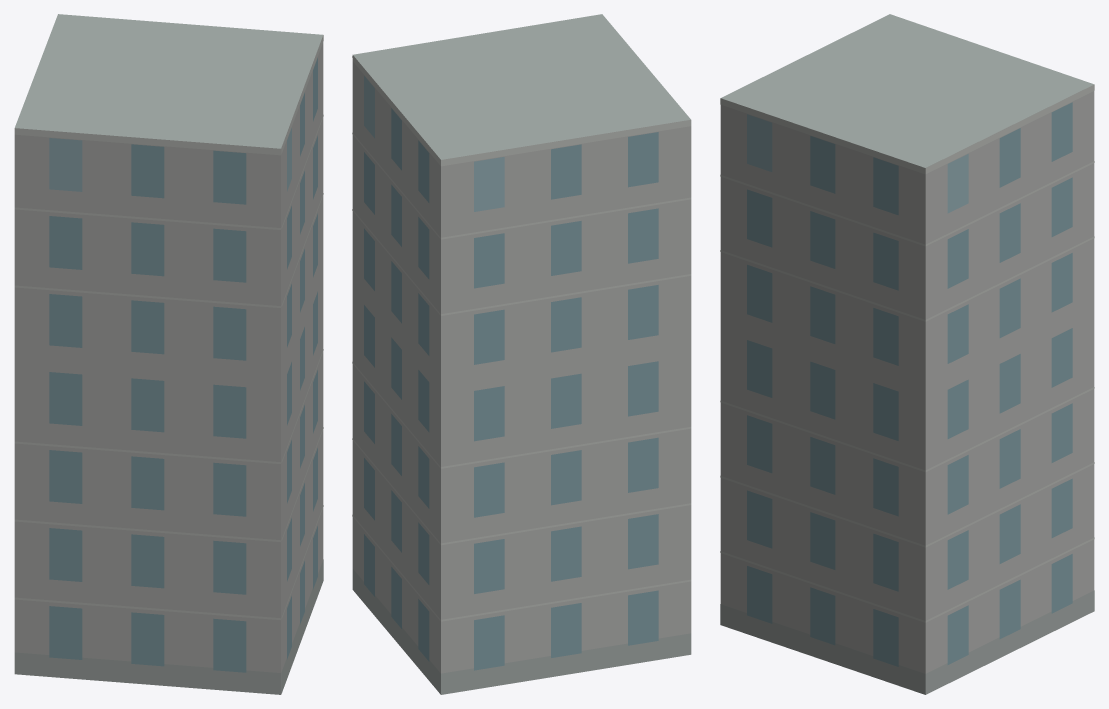
File: survey-upis-32669915.glb
3 views of the same model, side by side, from view 1: azimuth 30°, elevation 25°; view 2: azimuth 150°, elevation 25°; view 3: azimuth 270°, elevation 25° (orthographic). The views are drawn at different scales.
Visible parts, largest first — view 1: survey-upis-32669915.tmp; view 2: survey-upis-32669915.tmp; view 3: survey-upis-32669915.tmp.
Boxes of the visible parts, x1,y1,x2,y2 form: survey-upis-32669915.tmp: (14,14,323,694); survey-upis-32669915.tmp: (352,14,691,694); survey-upis-32669915.tmp: (720,14,1094,694).
Bounding box in the file's own units: 12.69 × 20.2 × 13.02.
